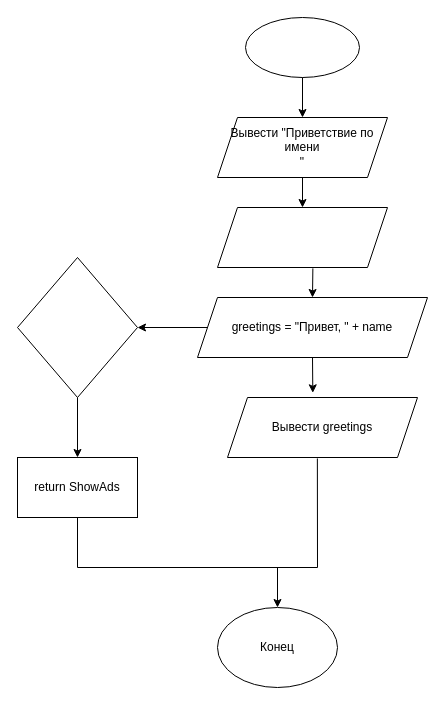
Some shapes in this 445 by 705 pixel diagram are drawn without their labels. Each missing label, with the box of its shape:
user != IsPremium: (16, 256, 138, 398)
Начало: (244, 16, 360, 78)
считать name: (216, 206, 388, 268)
